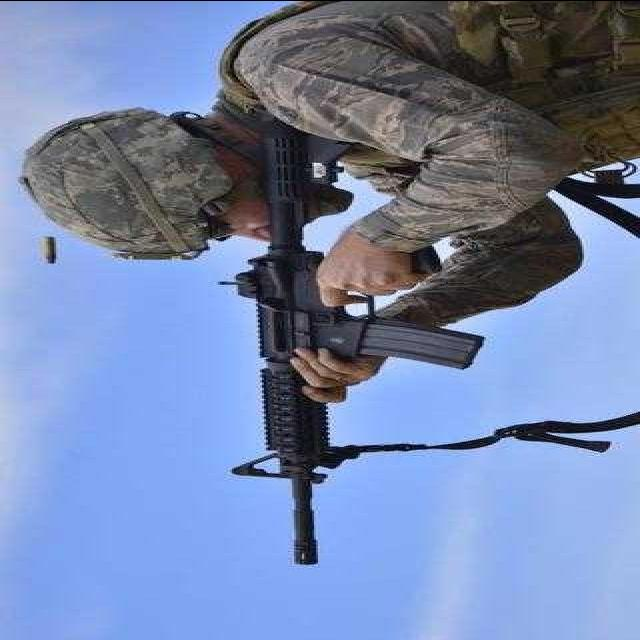heavyweapon: (235, 117, 455, 576)
